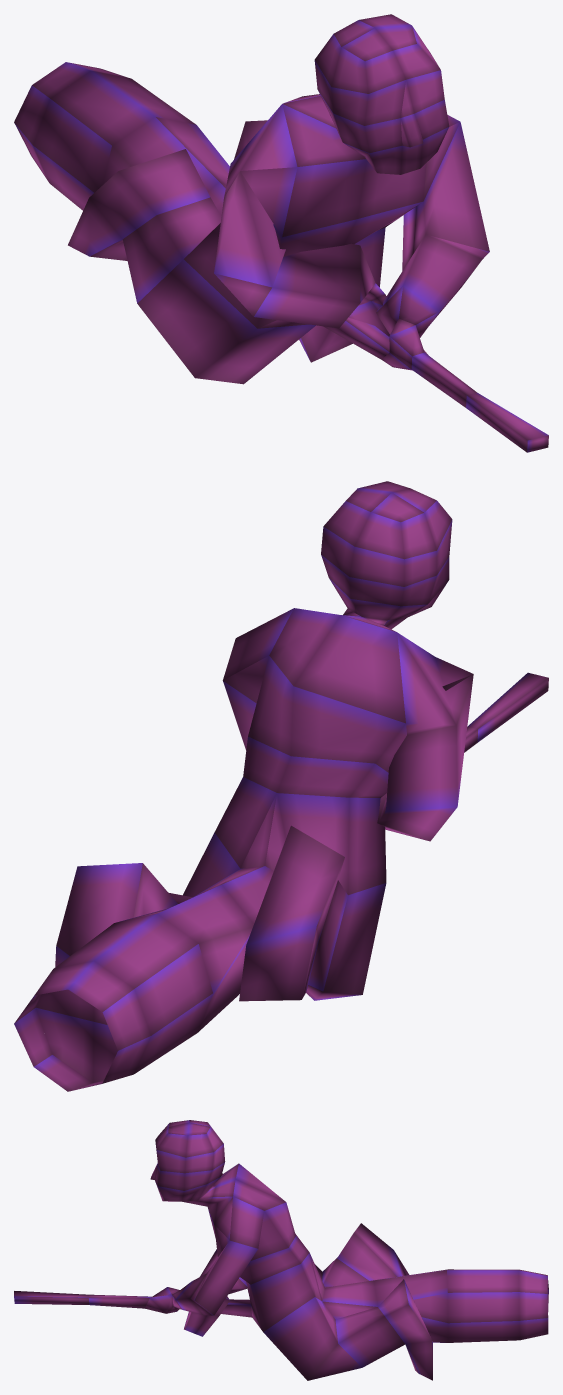
3 renders of one model, top to bottom at view 1: azimuth 30°, elevation 25°; view 2: azimuth 150°, elevation 25°; view 3: azimuth 270°, elevation 25°, orthographic. The views are drawn at different scales.
Parts seen in each view (by area): view 1: T1L3M005_7; view 2: T1L3M005_7; view 3: T1L3M005_7.
Boxes of the visible parts, x1,y1,x2,y2 form: T1L3M005_7: (14,14,548,452); T1L3M005_7: (14,481,548,1091); T1L3M005_7: (14,1120,548,1380).
Size of the model in its own units: 0.5157 by 0.8827 by 1.77.
